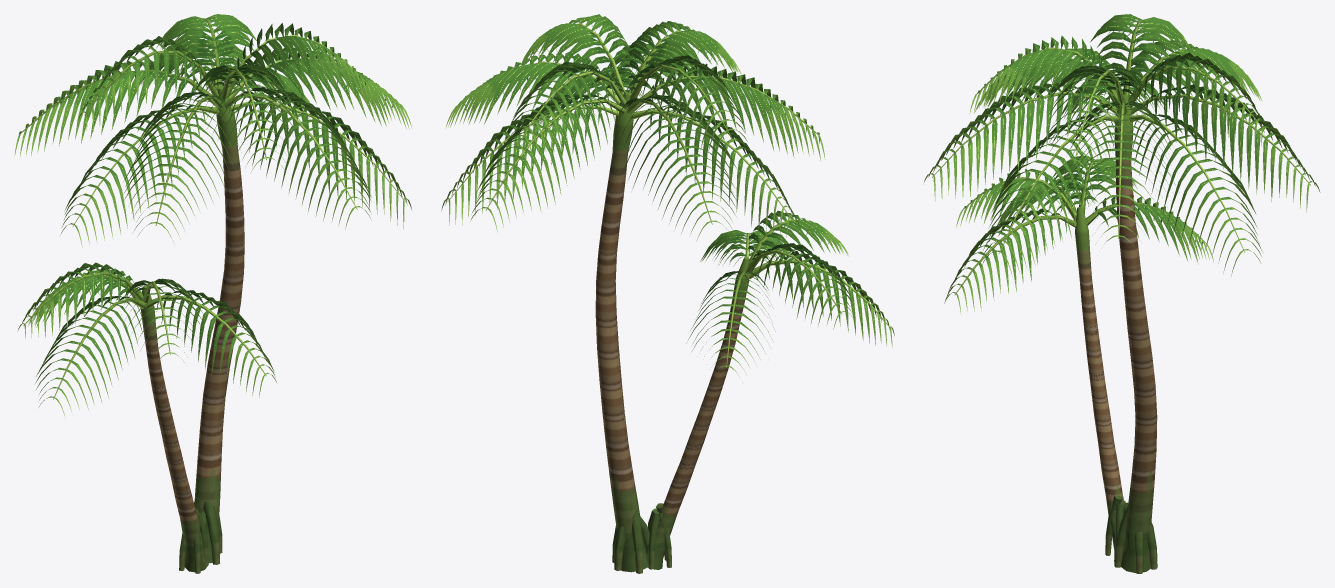
3 renders of one model, left to right at view 1: azimuth 30°, elevation 25°; view 2: azimuth 150°, elevation 25°; view 3: azimuth 270°, elevation 25°, orthographic. The views are drawn at different scales.
Visible parts, largest first — view 1: Mesh_PalmFronds, Mesh_PalmTrunk; view 2: Mesh_PalmFronds, Mesh_PalmTrunk; view 3: Mesh_PalmFronds, Mesh_PalmTrunk.
Part boxes in pixels (bbox=[...]): Mesh_PalmFronds: bbox=[14, 14, 412, 415]; Mesh_PalmTrunk: bbox=[140, 86, 244, 573]; Mesh_PalmFronds: bbox=[441, 14, 894, 382]; Mesh_PalmTrunk: bbox=[595, 91, 749, 573]; Mesh_PalmFronds: bbox=[924, 14, 1320, 315]; Mesh_PalmTrunk: bbox=[1075, 94, 1157, 573].
Bounding box in the file's own units: 4.67 × 5.82 × 3.95.
Materials: 2 (2 with a texture image).
